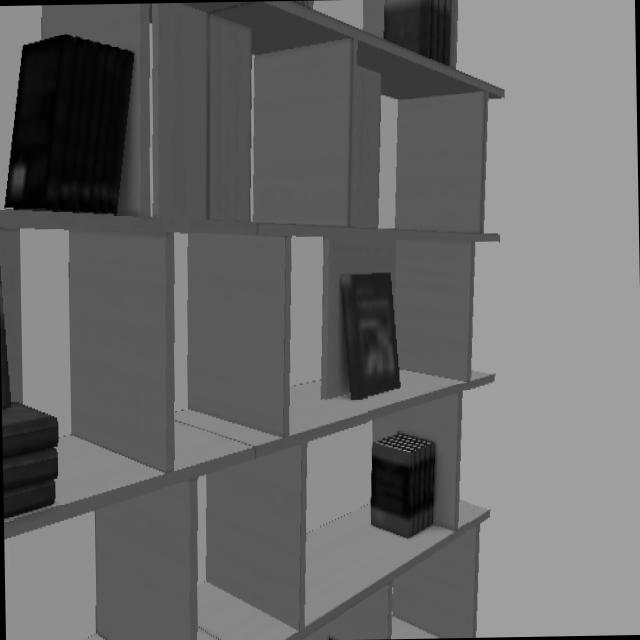book: (5, 35, 134, 215), (0, 277, 59, 520), (337, 273, 401, 399), (371, 432, 437, 537), (376, 0, 452, 64)
bookshelf: (0, 1, 504, 408), (56, 232, 488, 640)
shelf: (368, 384, 466, 532)
